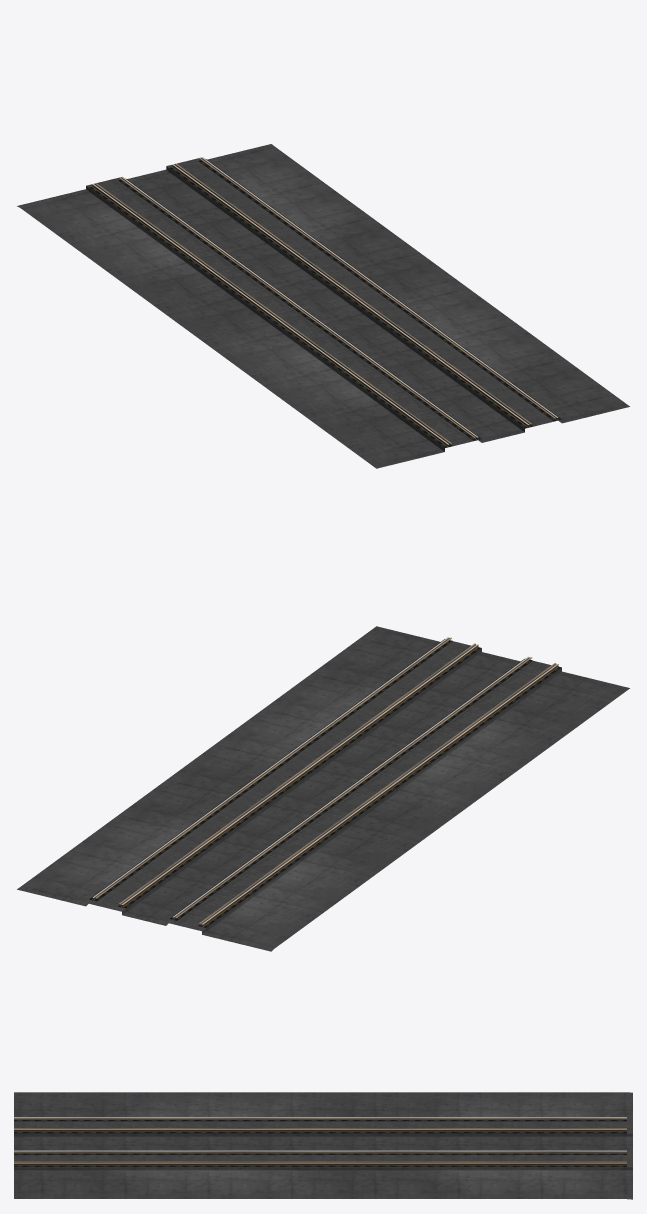
File: KIN_2RAIL_CHIKA100_02.glb
3 views of the same model, one above another, from view 1: azimuth 30°, elevation 25°; view 2: azimuth 150°, elevation 25°; view 3: azimuth 270°, elevation 25° (orthographic). The views are drawn at different scales.
Visible parts, largest first — view 1: obj1, RG_R, RG_L; view 2: obj1, RG_R, RG_L; view 3: obj1, RG_R, RG_L.
Boxes of the visible parts, x1,y1,x2,y2 form: obj1: [17, 144, 629, 468]; RG_R: [95, 163, 531, 445]; RG_L: [119, 157, 555, 438]; obj1: [17, 626, 629, 951]; RG_R: [118, 643, 556, 925]; RG_L: [95, 637, 532, 919]; obj1: [14, 1092, 632, 1199]; RG_R: [14, 1117, 626, 1152]; RG_L: [14, 1128, 626, 1162].
Size of the model in its own units: 42.19 by 20 by 101.
Materials: 7 (6 with a texture image).
